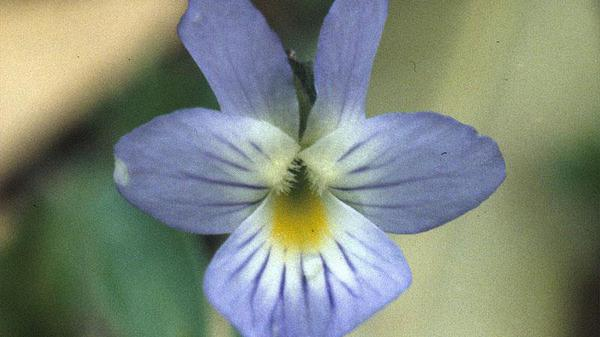violet: (116, 3, 495, 332)
